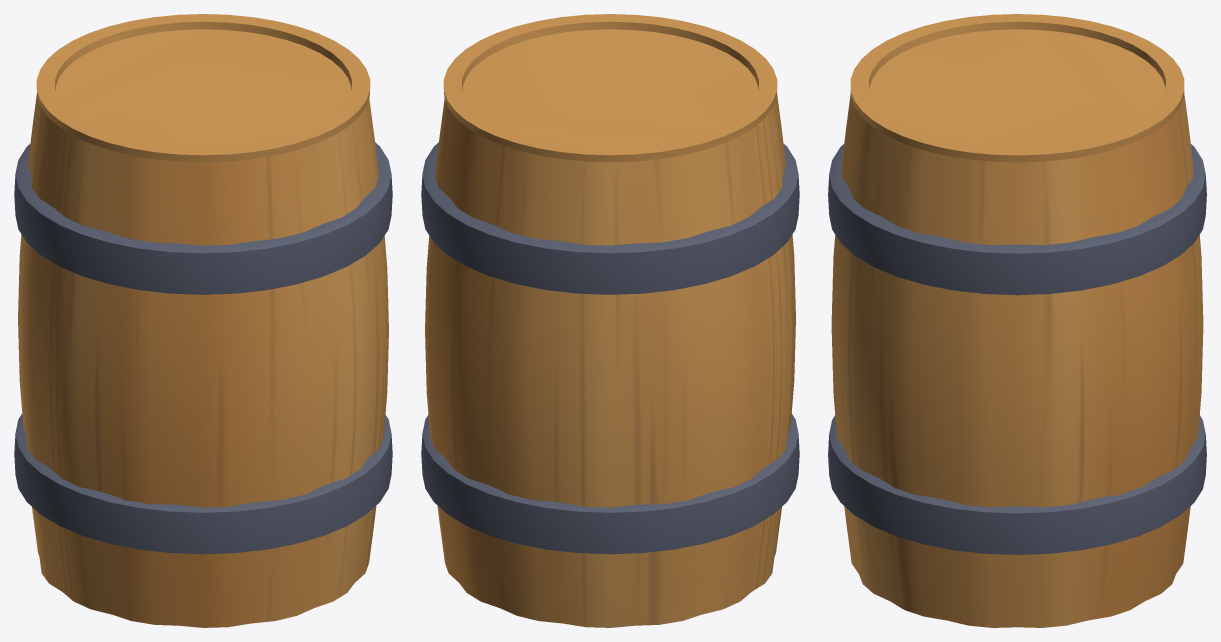
File: barrel.glb
3 renders of one model, left to right at view 1: azimuth 30°, elevation 25°; view 2: azimuth 150°, elevation 25°; view 3: azimuth 270°, elevation 25°, orthographic.
Visible parts, largest first — view 1: barrel; view 2: barrel; view 3: barrel.
Boxes of the visible parts, left/top/right/bottom form: barrel: left=14, top=14, right=392, bottom=627; barrel: left=421, top=14, right=799, bottom=627; barrel: left=828, top=14, right=1206, bottom=627.
Bounding box in the file's own units: 0.661 × 0.912 × 0.661.
3 materials, 1 textured.
